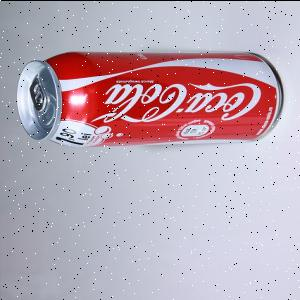Can: (17, 50, 285, 148)
